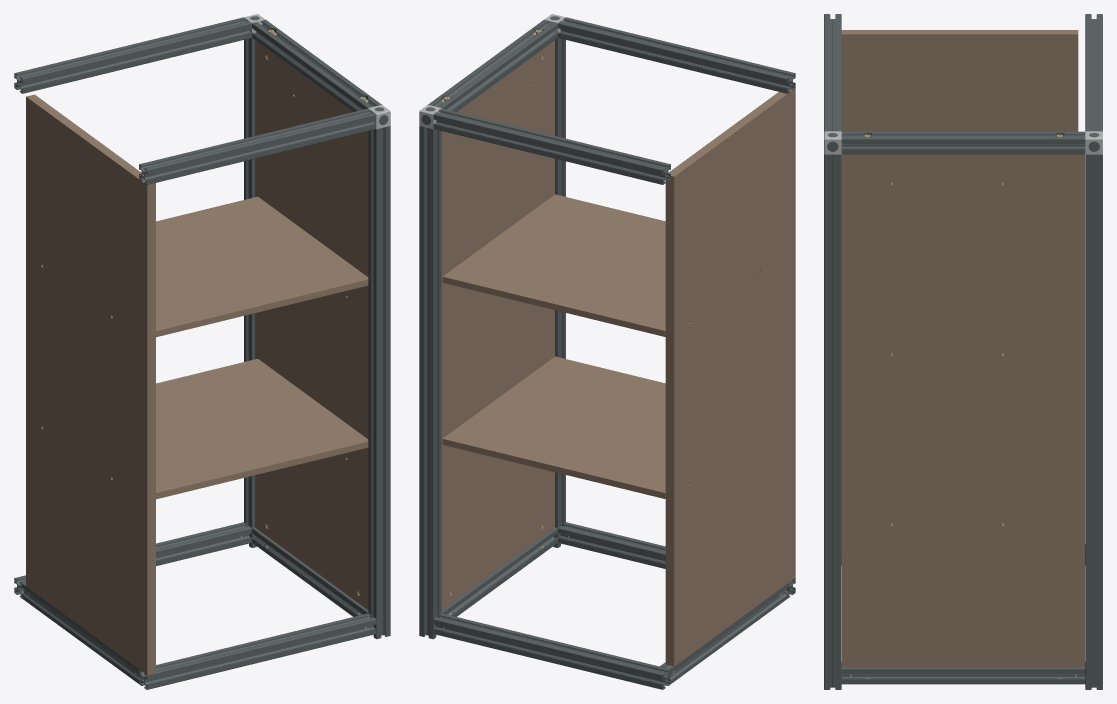
Rendered from right-detail.glb.
The picture shows the model from 3 angles, left to right: view 1: azimuth 30°, elevation 25°; view 2: azimuth 150°, elevation 25°; view 3: azimuth 270°, elevation 25°; orthographic projection. The views are drawn at different scales.
Visible parts, largest first — view 1: Center-18, Right-wall-18, Shelf-Right-1, Shelf-Right-2, Post-966-23, Beam-top-rear, Beam-top-front, Beam-body-front, Beam-top-side-966, Post-966-470, Beam-body-rear, Beam-body-side-966 (+1 smaller); view 2: Center-18, Right-wall-18, Shelf-Right-2, Shelf-Right-1, Post-966-470, Beam-top-front, Beam-body-rear, Beam-top-rear, Beam-top-side-966, Post-966-23, Beam-body-front, Beam-body-side-966 (+1 smaller); view 3: Right-wall-18, Center-18, Post-966-23, Post-966-470, Beam-top-side-966, Beam-body-side-966, Beam-top-rear, Beam-top-front.
Boxes of the visible parts, bbox=[...] form: Center-18: bbox=[26, 94, 155, 674]; Right-wall-18: bbox=[255, 40, 368, 609]; Shelf-Right-1: bbox=[156, 358, 368, 499]; Shelf-Right-2: bbox=[156, 196, 368, 337]; Post-966-23: bbox=[368, 126, 390, 639]; Beam-top-rear: bbox=[14, 17, 251, 93]; Beam-top-front: bbox=[139, 108, 376, 184]; Beam-body-front: bbox=[139, 613, 376, 689]; Beam-top-side-966: bbox=[252, 19, 381, 111]; Post-966-470: bbox=[244, 38, 256, 547]; Beam-body-rear: bbox=[14, 522, 251, 598]; Beam-body-side-966: bbox=[252, 527, 368, 616]; Center-18: bbox=[665, 88, 795, 666]; Right-wall-18: bbox=[441, 40, 554, 609]; Shelf-Right-2: bbox=[442, 194, 665, 336]; Shelf-Right-1: bbox=[442, 356, 665, 498]; Post-966-470: bbox=[419, 126, 441, 639]; Beam-top-front: bbox=[558, 17, 795, 93]; Beam-body-rear: bbox=[433, 613, 670, 689]; Beam-top-rear: bbox=[433, 108, 670, 184]; Beam-top-side-966: bbox=[428, 19, 557, 111]; Post-966-23: bbox=[553, 38, 565, 547]; Beam-body-front: bbox=[558, 522, 795, 598]; Beam-body-side-966: bbox=[441, 527, 557, 616]; Right-wall-18: bbox=[842, 154, 1084, 667]; Center-18: bbox=[841, 30, 1078, 547]; Post-966-23: bbox=[824, 154, 841, 689]; Post-966-470: bbox=[1085, 154, 1102, 689]; Beam-top-side-966: bbox=[841, 131, 1085, 154]; Beam-body-side-966: bbox=[841, 662, 1085, 684]; Beam-top-rear: bbox=[1085, 14, 1102, 131]; Beam-top-front: bbox=[824, 14, 841, 131].
Size of the model in its own units: 0.505 by 1.04 by 0.477.
